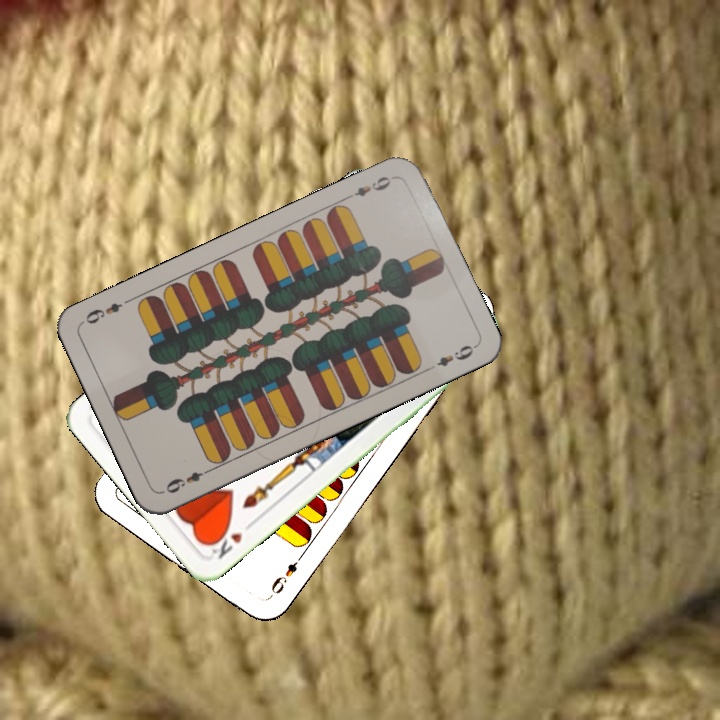E9: (265, 550, 306, 601), (159, 464, 214, 496), (342, 171, 398, 202)
HK: (202, 516, 257, 562)
